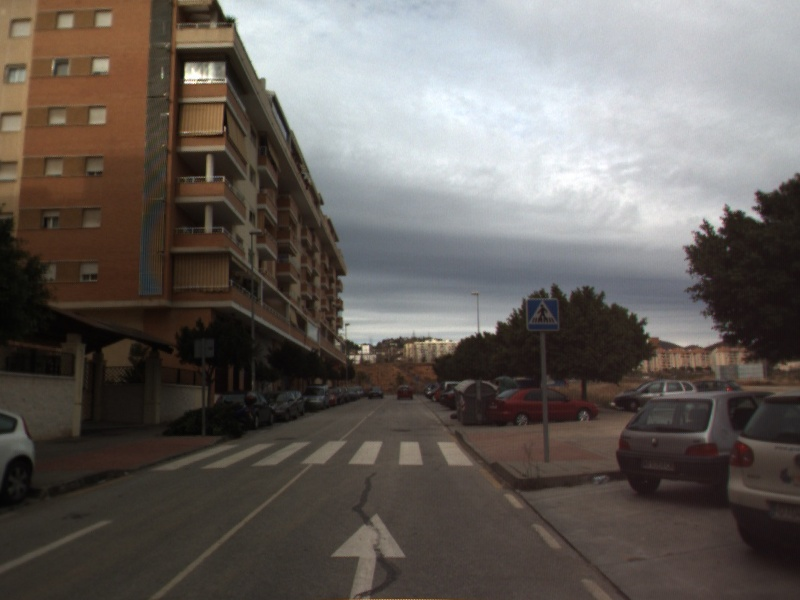STRAIGHT: (327, 510, 410, 600)
